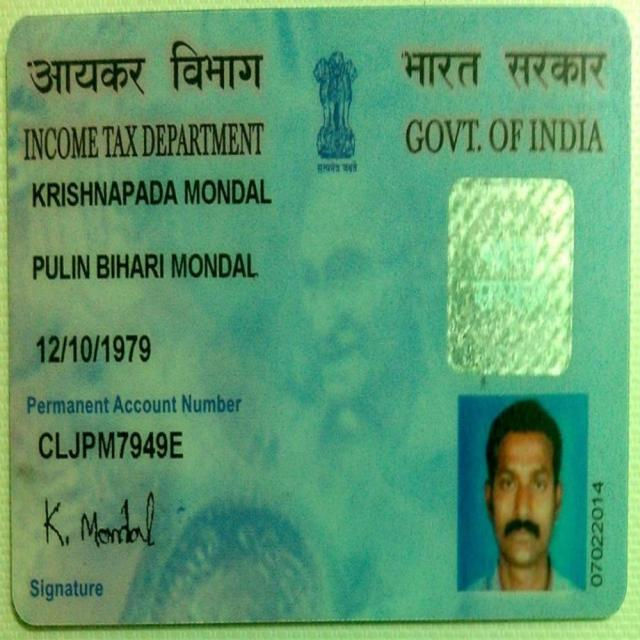pan_card: (12, 22, 622, 615)
